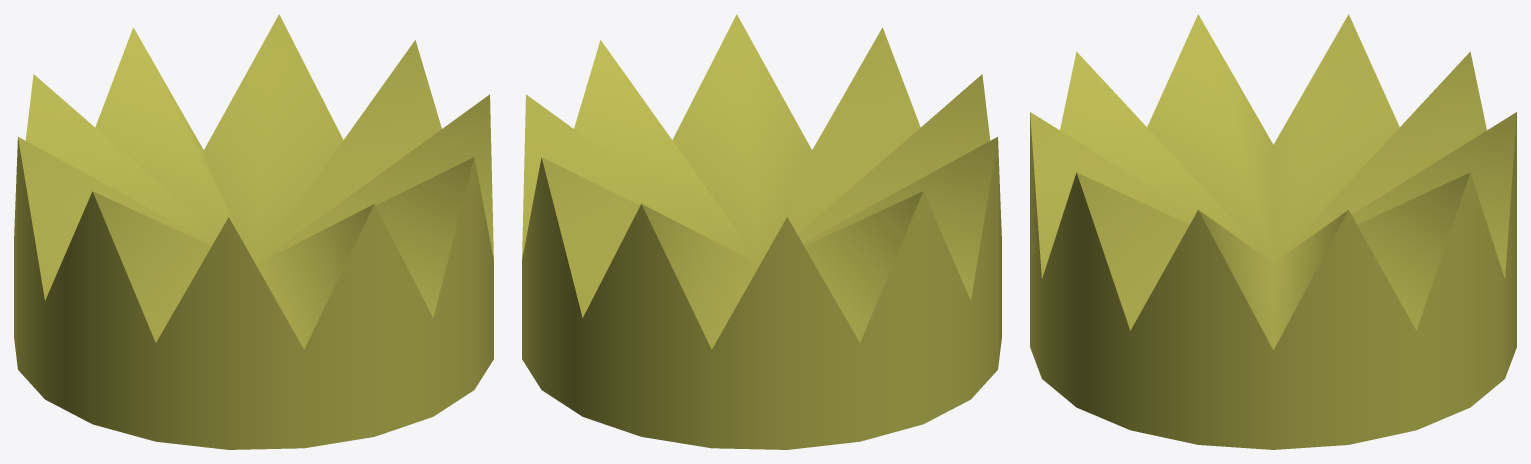
Rendered from crown1.fbx.
The picture shows the model from 3 angles, left to right: view 1: azimuth 30°, elevation 25°; view 2: azimuth 150°, elevation 25°; view 3: azimuth 270°, elevation 25°; orthographic projection.
Parts seen in each view (by area): view 1: crown; view 2: crown; view 3: crown.
Boxes of the visible parts, bbox=[...] form: crown: bbox=[14, 14, 493, 449]; crown: bbox=[522, 14, 1001, 449]; crown: bbox=[1030, 14, 1516, 449].
Size of the model in its own units: 0.3049 by 0.1626 by 0.3049.
